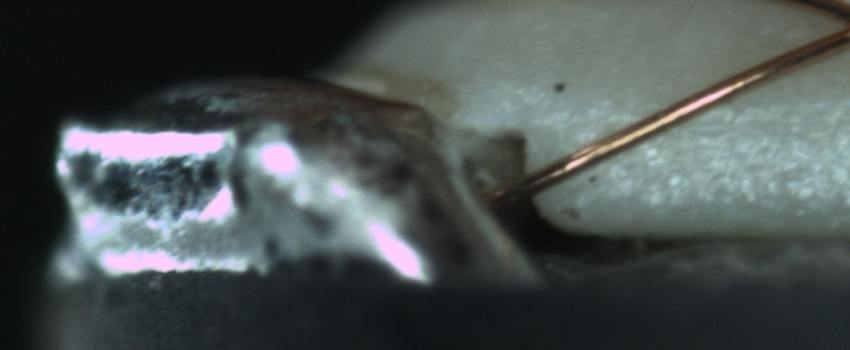DL: (623, 96, 850, 154)
